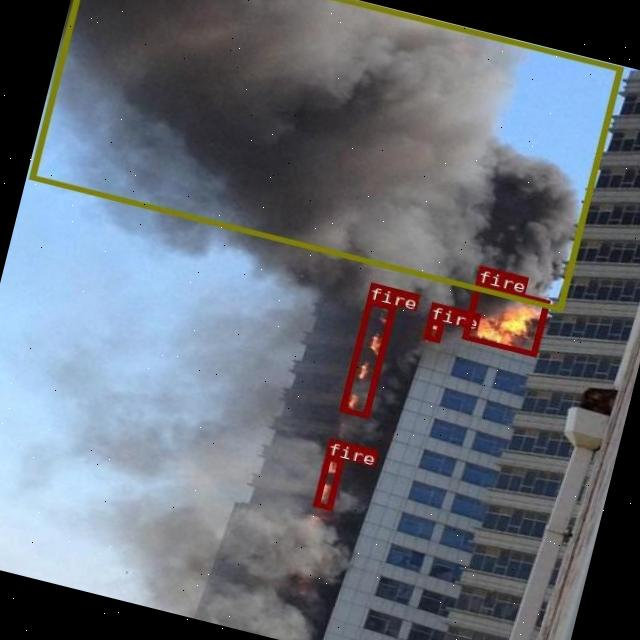fire: (338, 299, 394, 417), (460, 281, 549, 355), (311, 454, 343, 509), (422, 317, 443, 341)
smoke: (28, 0, 621, 309)
